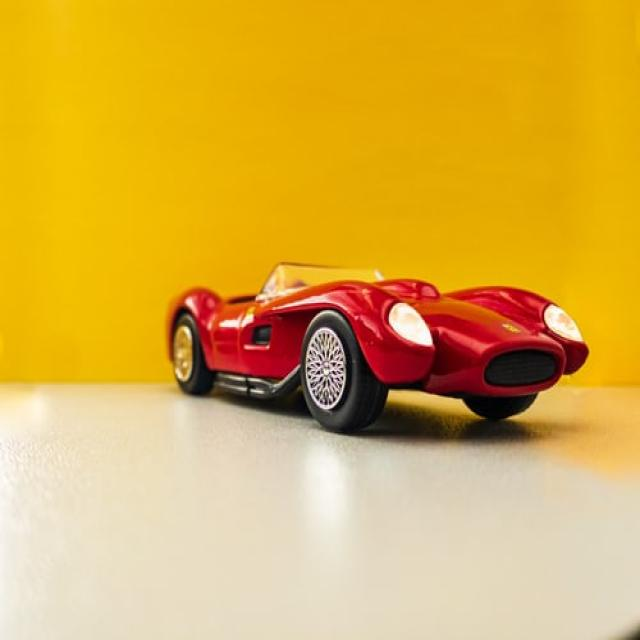Car: (165, 259, 589, 433)
